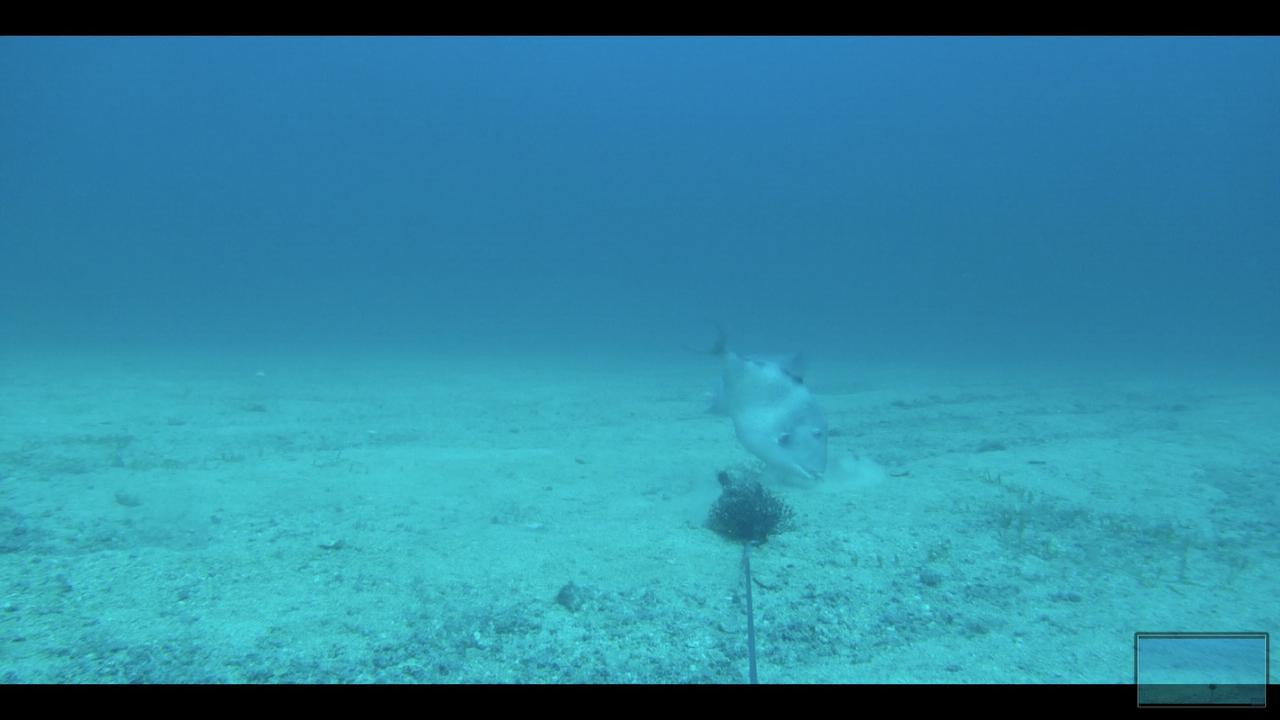balistes: (679, 312, 833, 492)
